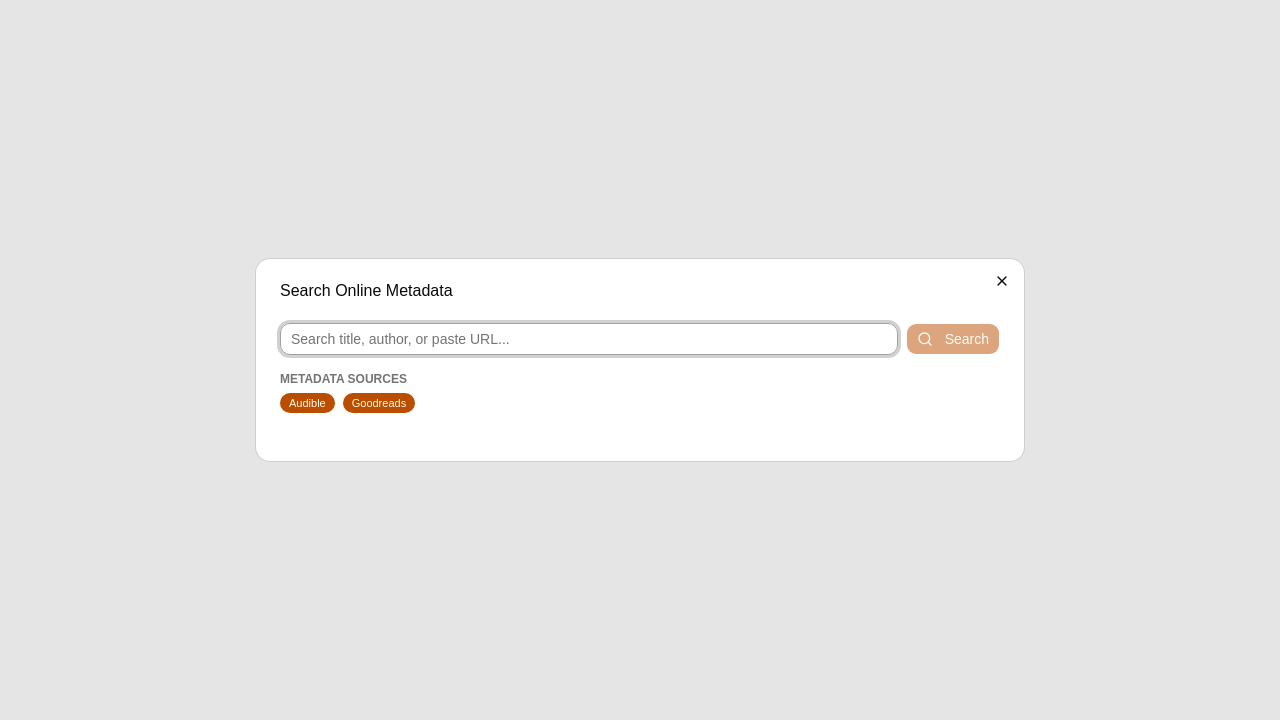
Test: BookSearchDialog › spells out why nothing came back when every one of several sources failed
In the field with placeholder "Search title, author, or paste URL...": (589, 339) [280,323,898,355], type "mole"
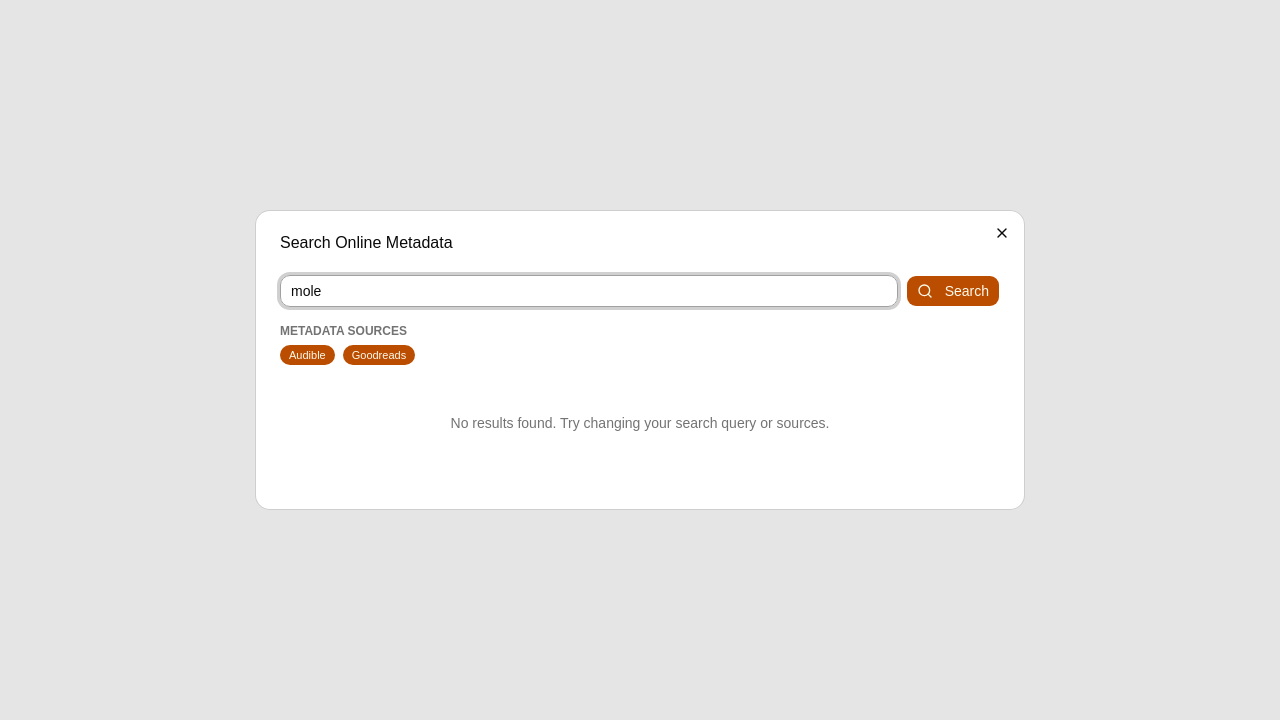
Click the button "Search": (953, 291) [906,275,1000,307]
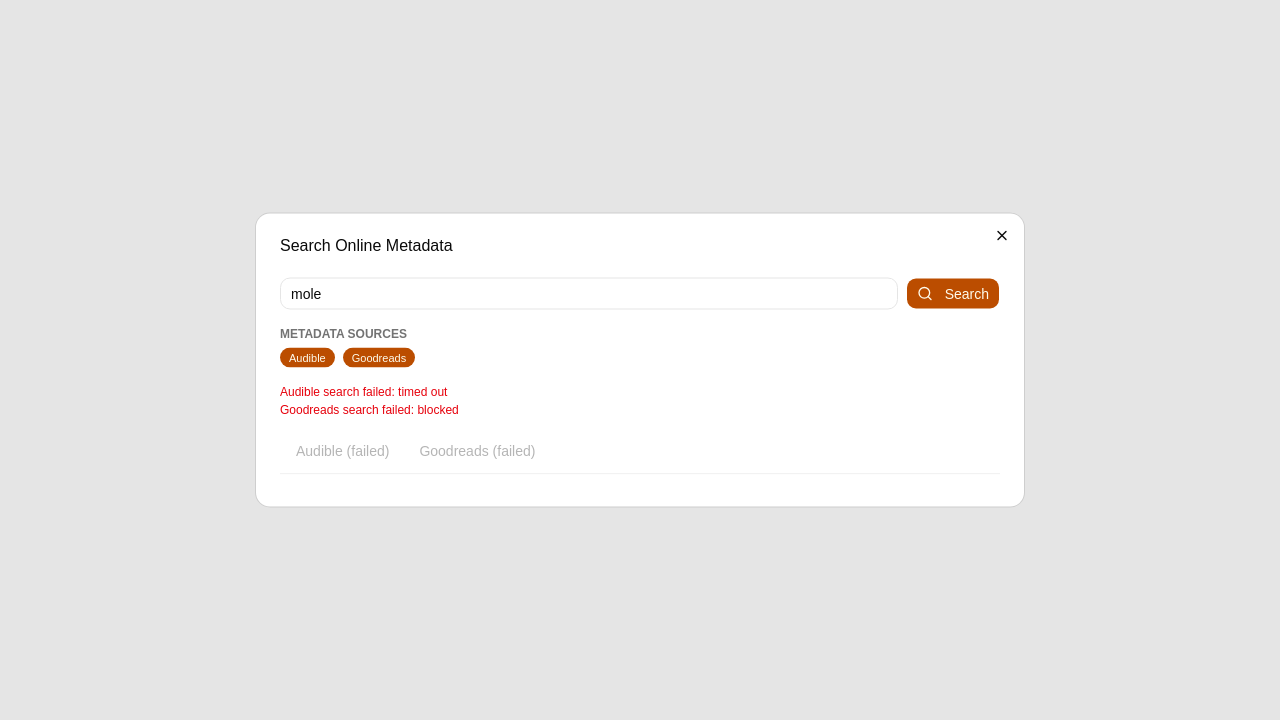
Expected: the text "Audible search failed: timed out" is shown, [280,384,447,398]
Expected: the text "Goodreads search failed: blocked" is shown, [280,402,459,416]
Expected: the text "No results found" is gone
